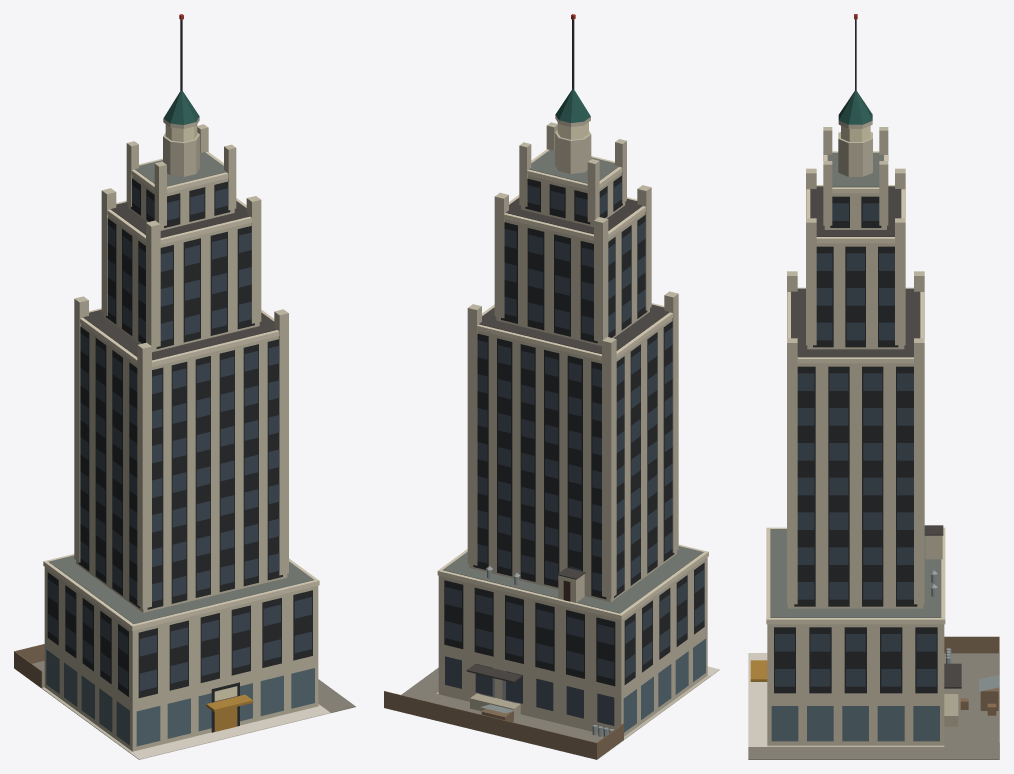
File: glasstower_b.glb
The picture shows the model from 3 angles, left to right: view 1: azimuth 30°, elevation 25°; view 2: azimuth 150°, elevation 25°; view 3: azimuth 270°, elevation 25°; orthographic projection. The views are drawn at different scales.
Visible parts, largest first — view 1: glasstower_b; view 2: glasstower_b; view 3: glasstower_b.
Part boxes in pixels (x1=…): glasstower_b: x1=14, y1=14, x2=355, y2=759; glasstower_b: x1=384, y1=14, x2=719, y2=759; glasstower_b: x1=748, y1=14, x2=999, y2=759.
Bounding box in the file's own units: 30 × 90.24 × 30.
